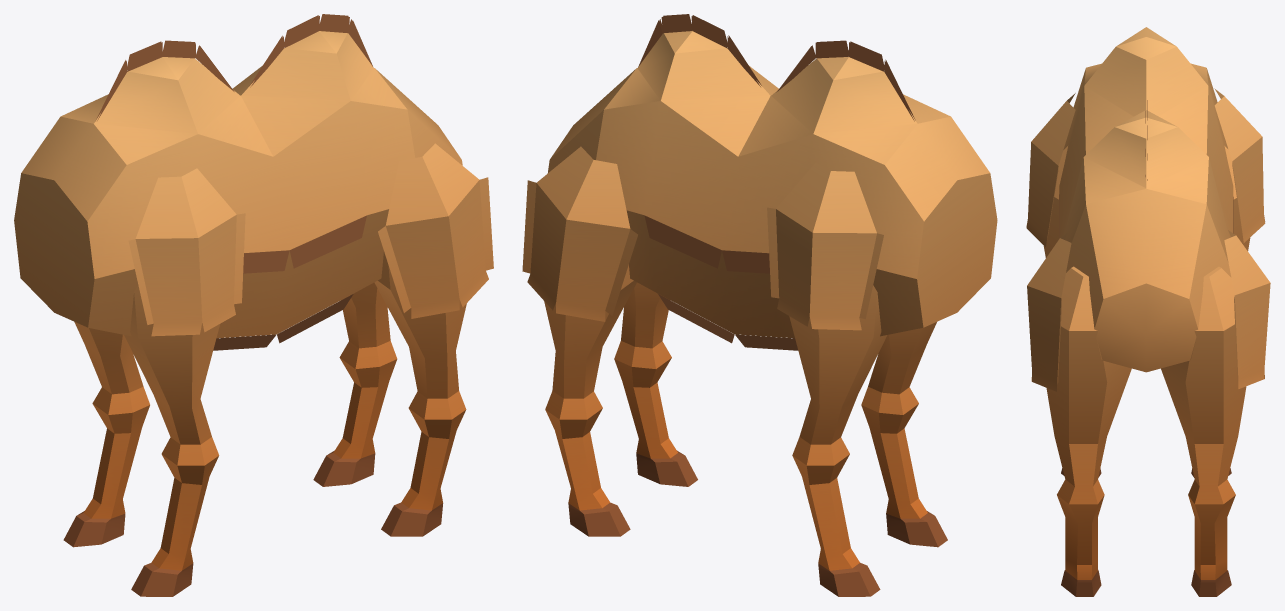
File: Camel_body.fbx
3 views of the same model, side by side, from view 1: azimuth 30°, elevation 25°; view 2: azimuth 150°, elevation 25°; view 3: azimuth 270°, elevation 25° (orthographic). The views are drawn at different scales.
Visible parts, largest first — view 1: Camel_body; view 2: Camel_body; view 3: Camel_body.
Part boxes in pixels (left/top/right/bottom): Camel_body: left=14, top=14, right=493, bottom=596; Camel_body: left=522, top=14, right=997, bottom=596; Camel_body: left=1026, top=27, right=1270, bottom=596.
Bounding box in the file's own units: 76.44 × 94.61 × 44.83.
